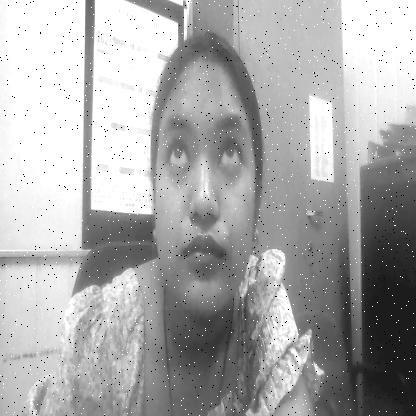Normal: (152, 62, 252, 310)
